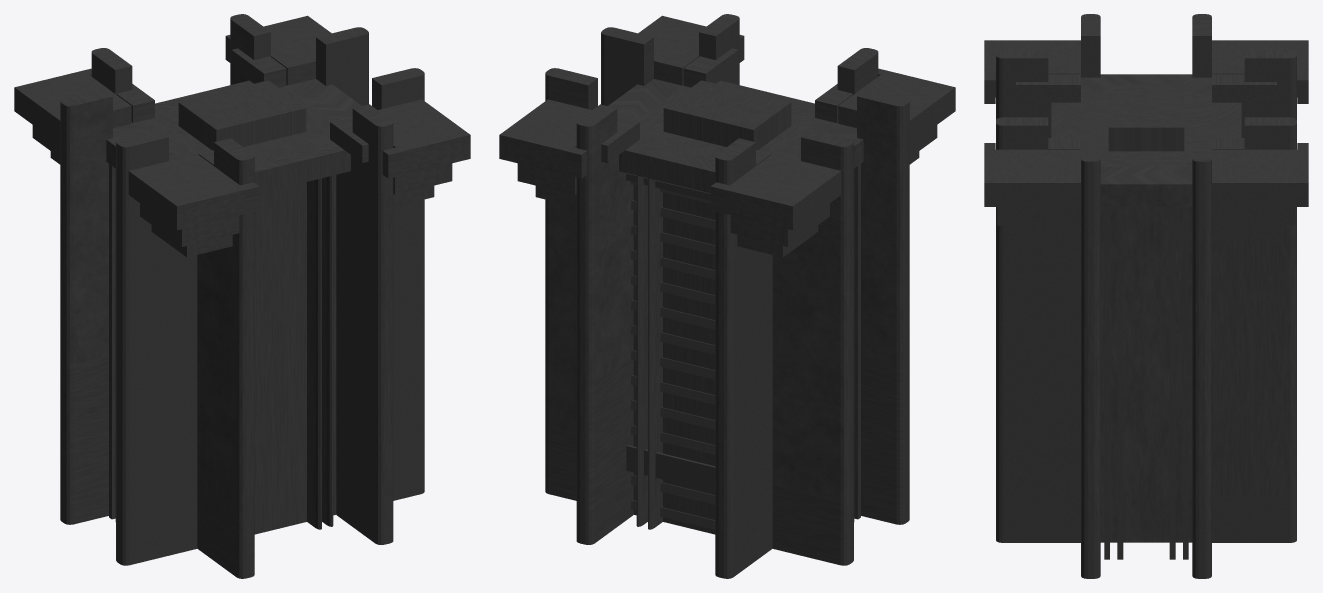
The model's file is brutalist.fbx.
3 renders of one model, left to right at view 1: azimuth 30°, elevation 25°; view 2: azimuth 150°, elevation 25°; view 3: azimuth 270°, elevation 25°, orthographic.
Parts seen in each view (by area): view 1: Cube.001, Cube, Cube.021, Cube.002, Cube.003; view 2: Cube.001, Cube, Cube.021, Cube.002, Cube.006, Cube.003, Cube.004, asd; view 3: Cube.001, Cube, Cube.021, Cube.003.
Boxes of the visible parts, left/top/right/bottom form: Cube.001: left=60, top=14, right=424, bottom=578; Cube: left=106, top=79, right=361, bottom=534; Cube.021: left=14, top=15, right=470, bottom=257; Cube.002: left=307, top=175, right=333, bottom=529; Cube.003: left=109, top=164, right=115, bottom=521; Cube.001: left=545, top=14, right=909, bottom=578; Cube: left=608, top=79, right=863, bottom=534; Cube.021: left=499, top=15, right=955, bottom=257; Cube.002: left=636, top=175, right=662, bottom=529; Cube.006: left=631, top=181, right=715, bottom=529; Cube.003: left=854, top=164, right=860, bottom=521; Cube.004: left=626, top=445, right=715, bottom=491; asd: left=626, top=173, right=710, bottom=200; Cube.001: left=996, top=14, right=1296, bottom=578; Cube: left=1051, top=74, right=1241, bottom=542; Cube.021: left=984, top=40, right=1308, bottom=237; Cube.003: left=1104, top=206, right=1188, bottom=559.
Bounding box in the file's own units: 5338 × 7028 × 4954.
